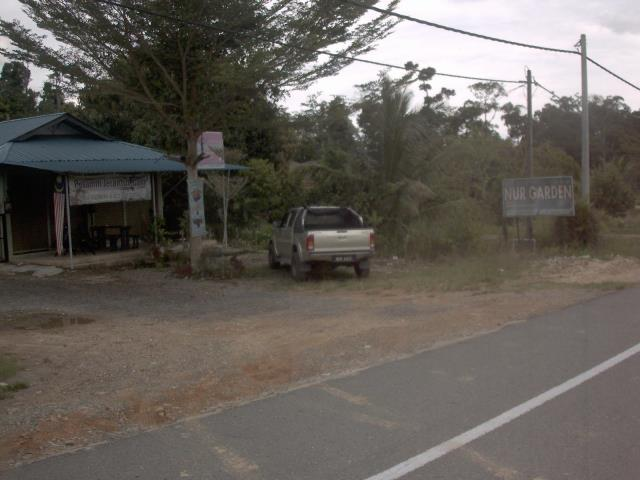ads_sign: (491, 165, 585, 227)
